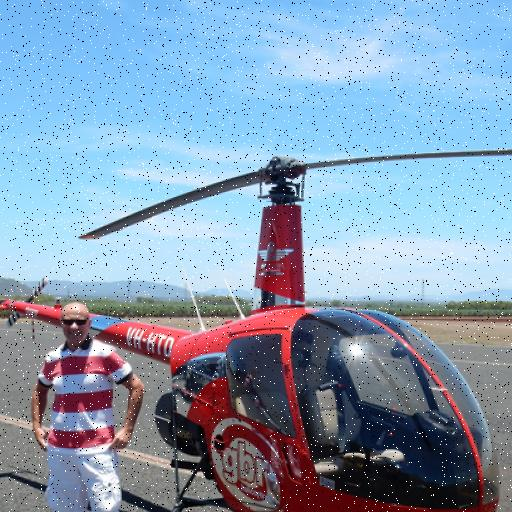helicopter: (1, 149, 512, 512)
